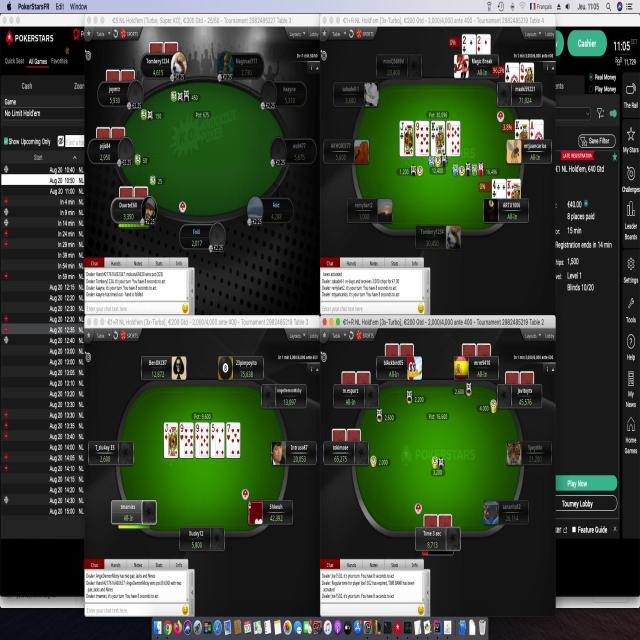10D: (444, 117, 452, 140)
2C: (462, 33, 468, 55)
2D: (475, 33, 483, 54)
4C: (492, 179, 498, 198)
5D: (210, 421, 218, 444)
7H: (226, 419, 233, 444)
9D: (194, 421, 201, 442)
9H: (415, 118, 422, 139), (180, 422, 186, 441)
AD: (530, 119, 535, 139)
AS: (504, 62, 512, 81)
JC: (399, 119, 405, 139)
JD: (163, 419, 169, 441)
KC: (430, 120, 438, 140)
KH: (505, 178, 512, 196)
KS: (514, 119, 522, 138)
QH: (520, 59, 526, 80)
